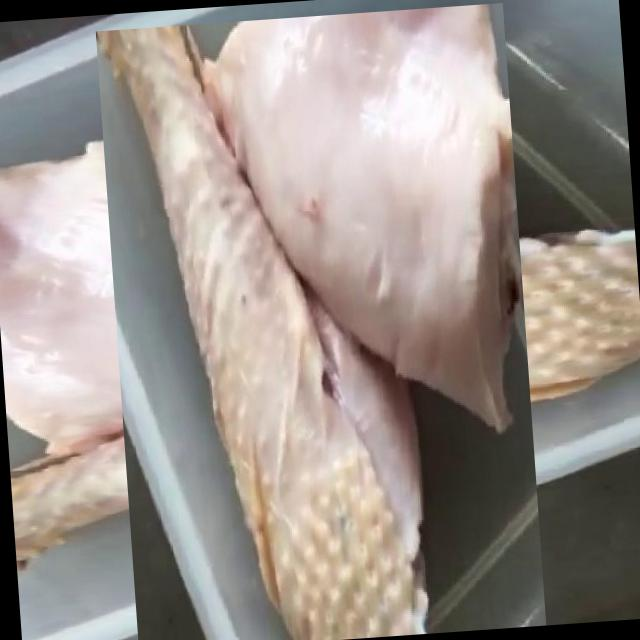chicken: (42, 56, 600, 615)
